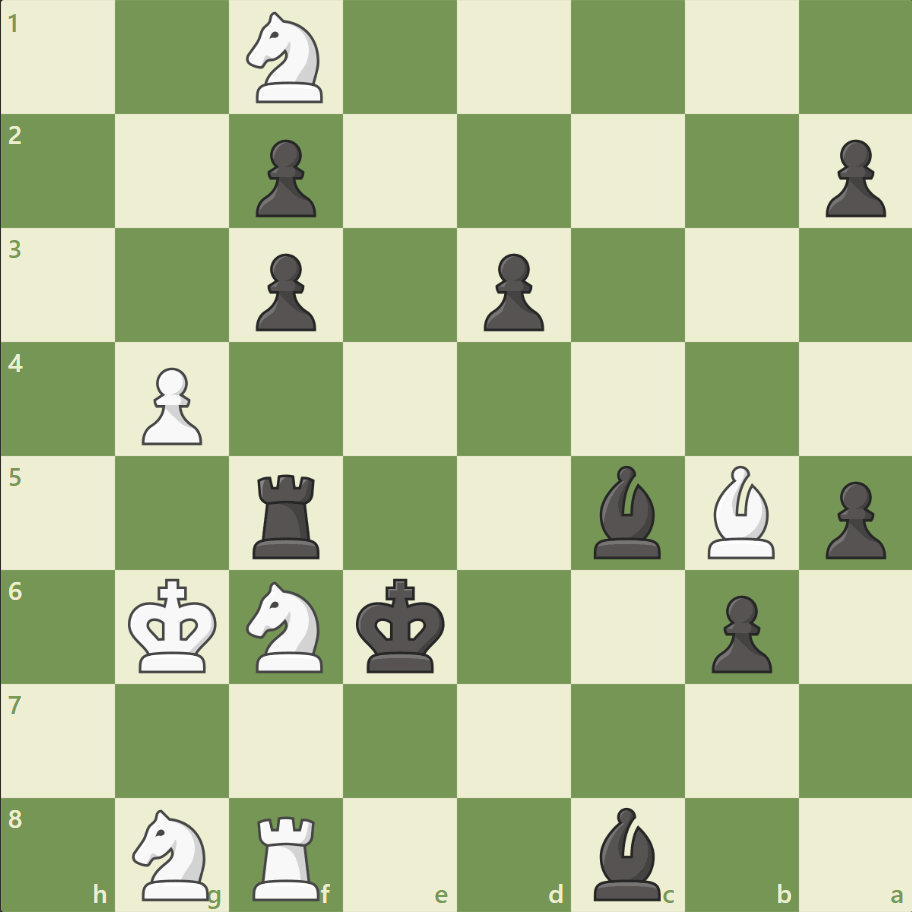B: (698, 460, 782, 563)
K: (124, 571, 224, 679)
N: (124, 802, 222, 904), (238, 7, 335, 110), (238, 575, 335, 677)
P: (133, 359, 208, 450)
R: (246, 806, 329, 904)
b: (585, 801, 669, 904), (585, 460, 669, 563)
k: (351, 571, 451, 679)
p: (701, 586, 776, 677), (474, 246, 549, 337), (247, 246, 322, 337), (247, 132, 322, 223), (815, 473, 889, 564), (815, 132, 889, 223)
r: (246, 466, 329, 563)
